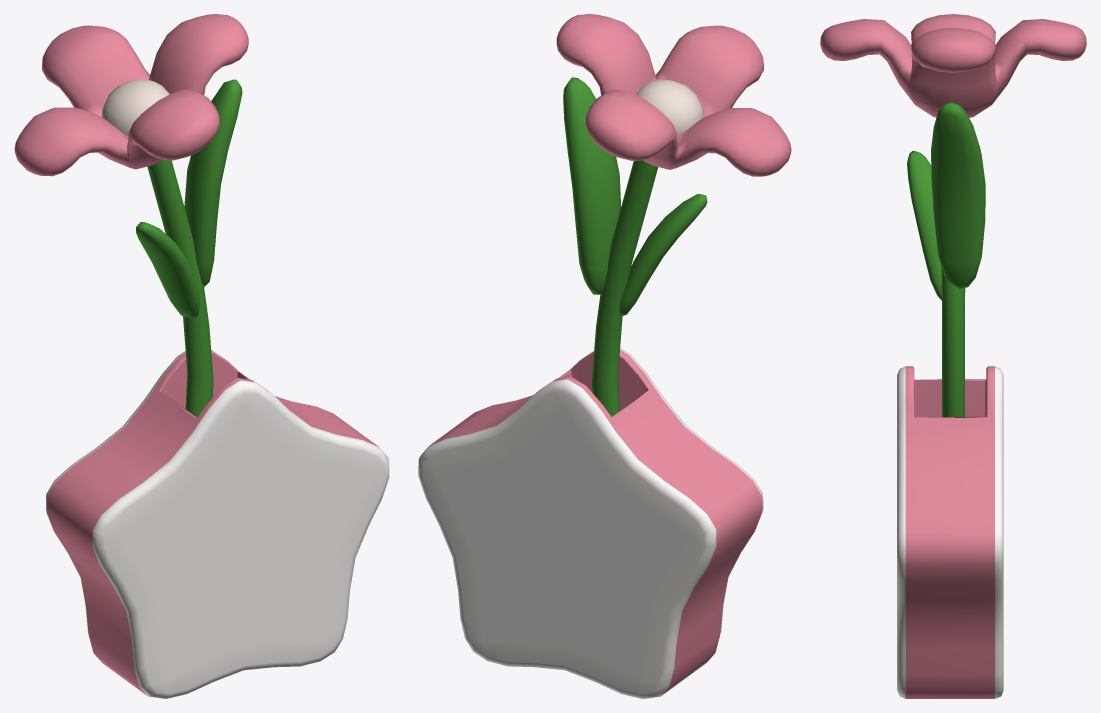
Rendered from Flower_5.glb.
The picture shows the model from 3 angles, left to right: view 1: azimuth 30°, elevation 25°; view 2: azimuth 150°, elevation 25°; view 3: azimuth 270°, elevation 25°; orthographic projection. The views are drawn at different scales.
Parts seen in each view (by area): view 1: Vase_with_Flowers_1; view 2: Vase_with_Flowers_1; view 3: Vase_with_Flowers_1.
Boxes of the visible parts, x1,y1,x2,y2 form: Vase_with_Flowers_1: (14,14,389,698); Vase_with_Flowers_1: (418,14,791,698); Vase_with_Flowers_1: (820,14,1086,698).
Size of the model in its own units: 0.4612 by 0.8246 by 0.3178.
1 material, 1 textured.
